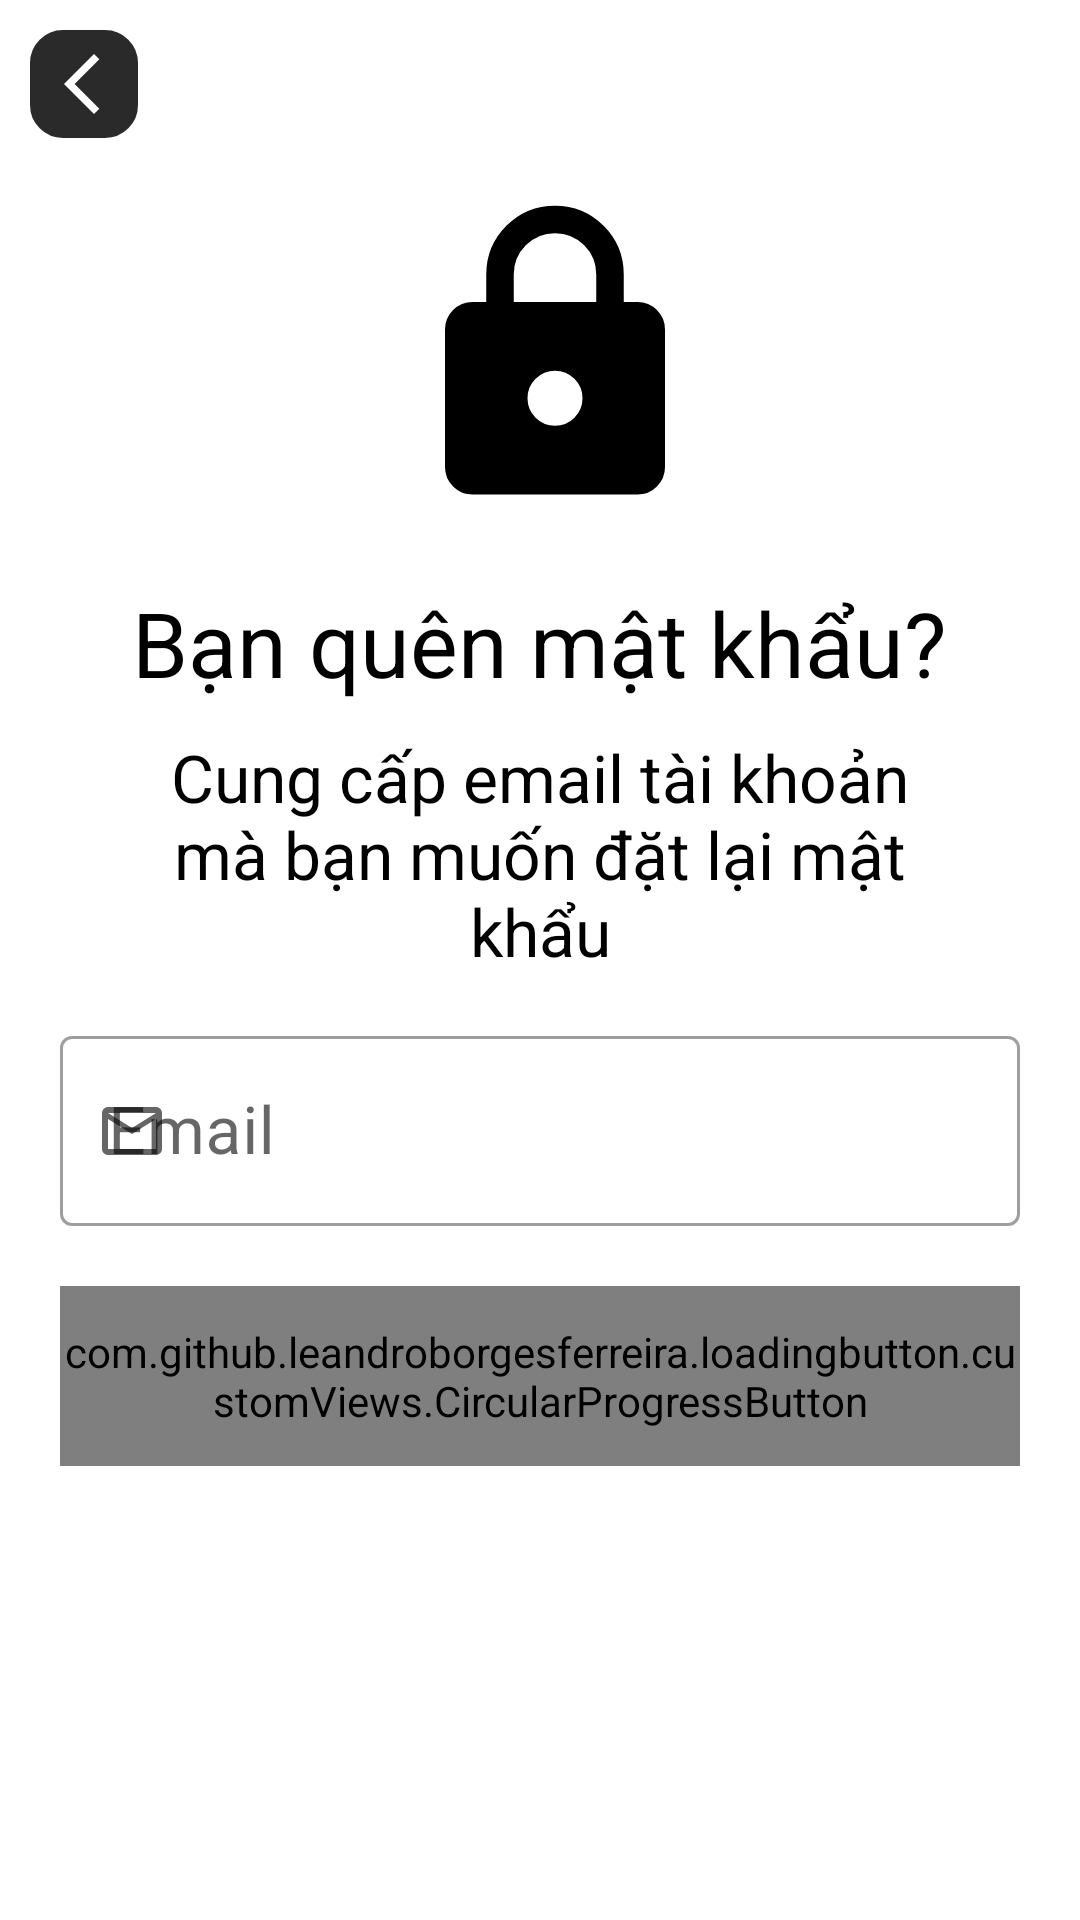

Screen size 1080px x 1920px. Icon name, then its box in pixels as BBox(x1, y1, x2, y2):
back: BBox(64, 54, 99, 114)
lock: BBox(445, 205, 665, 495)
